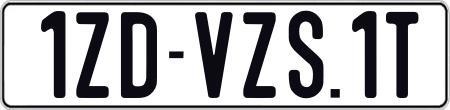1: (38, 9, 62, 102), (352, 10, 376, 103)
D: (121, 12, 160, 98)
S: (287, 10, 326, 103)
T: (383, 10, 415, 96)
V: (193, 11, 231, 99)
Z: (75, 11, 114, 103), (242, 10, 280, 96)
